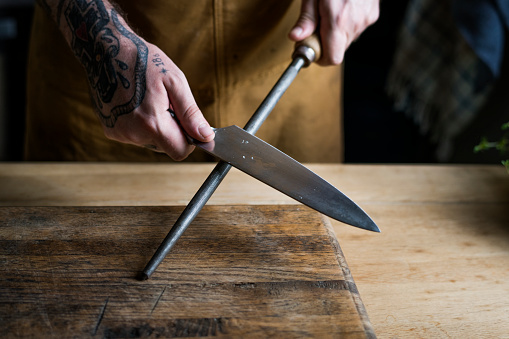knife: (159, 107, 382, 236)
